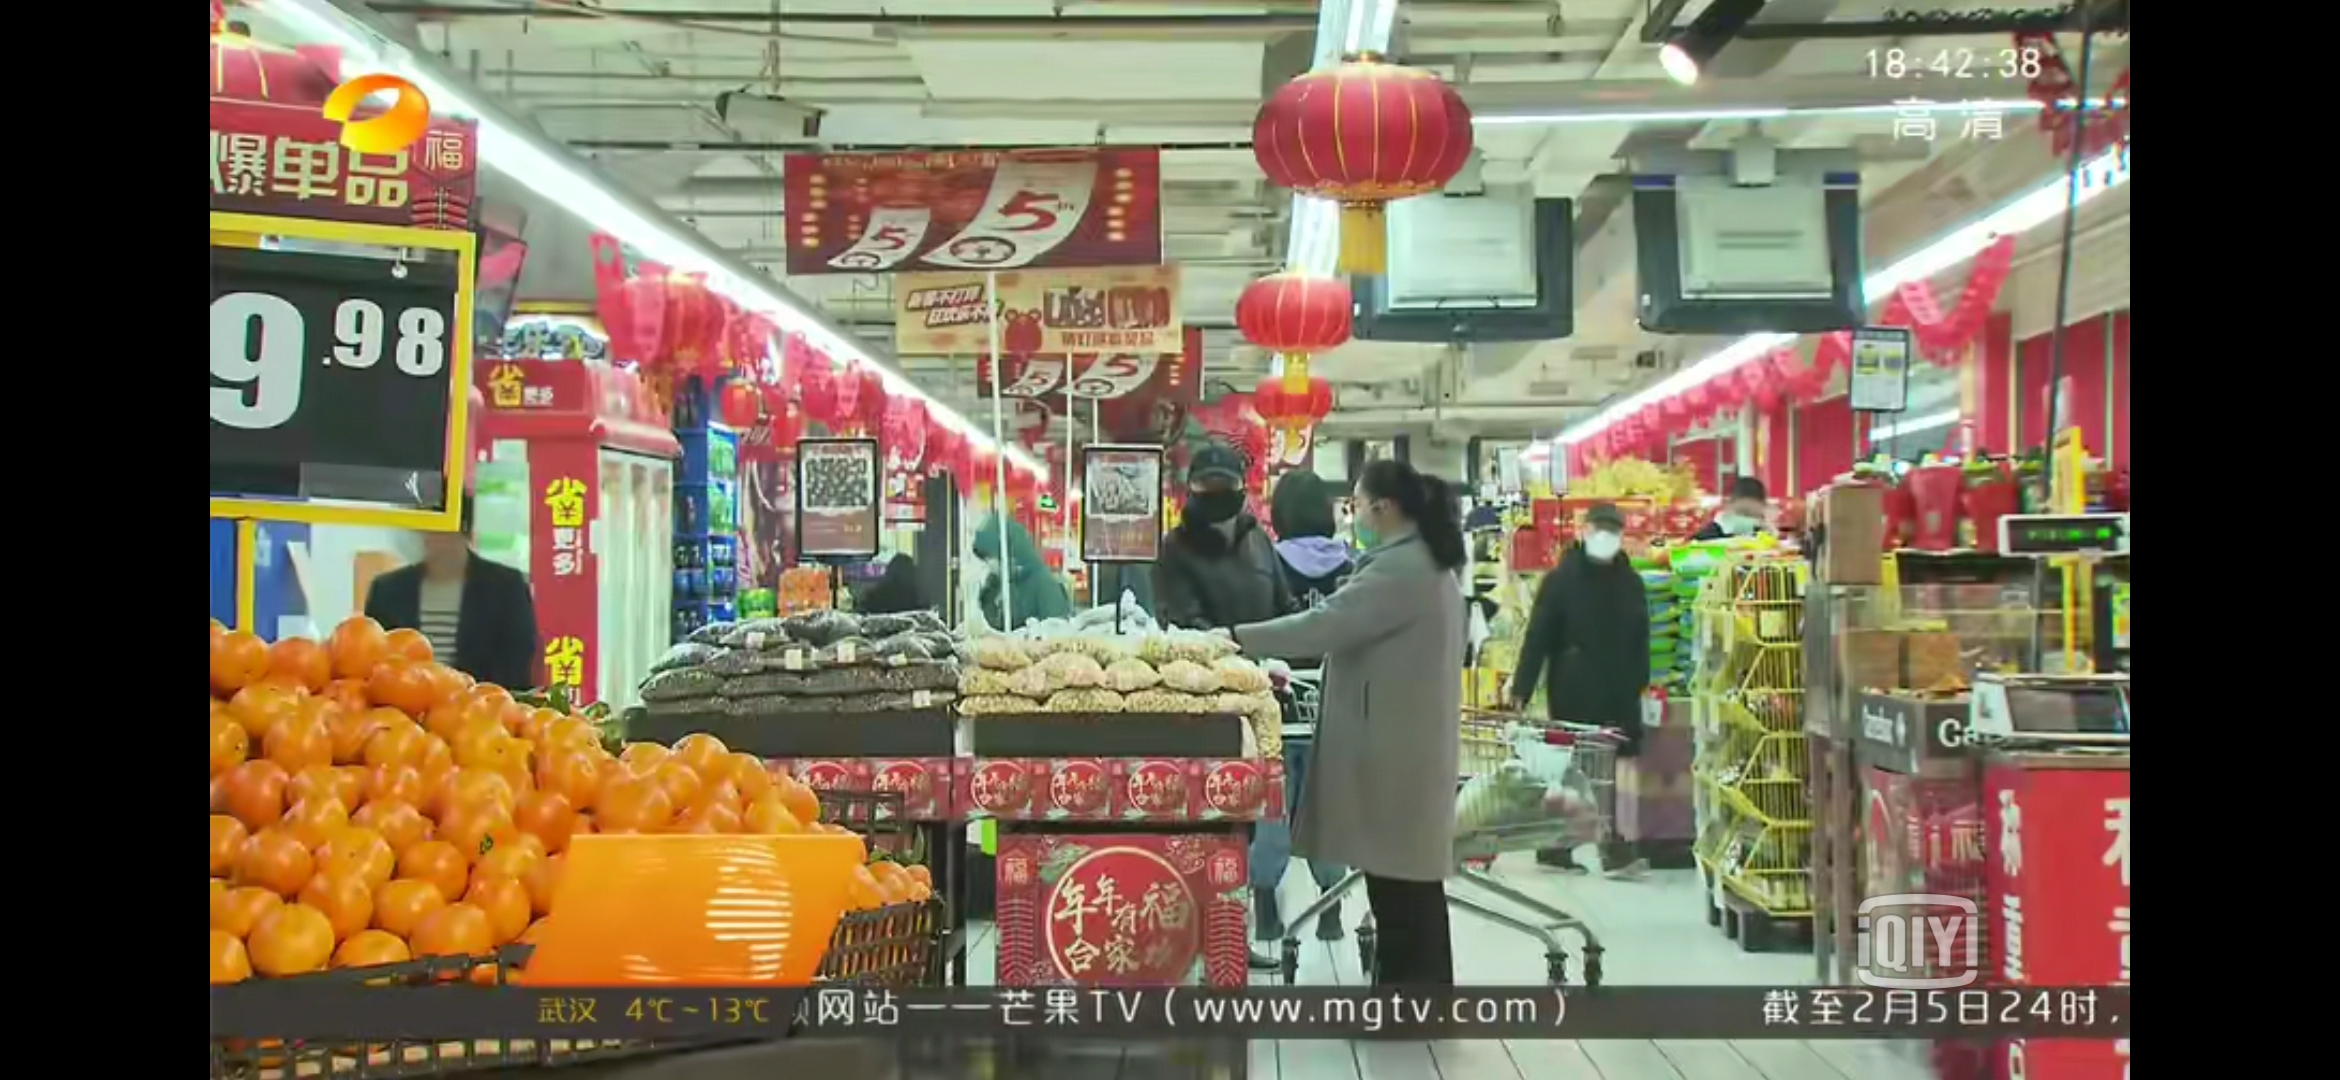correctlyWear: (1182, 464, 1246, 525), (1351, 486, 1397, 550), (1582, 521, 1627, 561), (1718, 498, 1765, 536)
